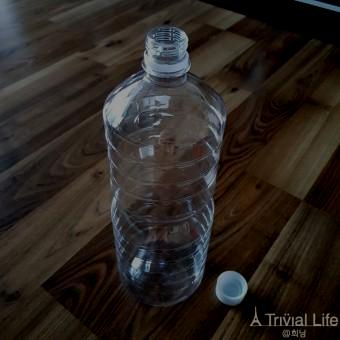bottle: (104, 25, 229, 307)
